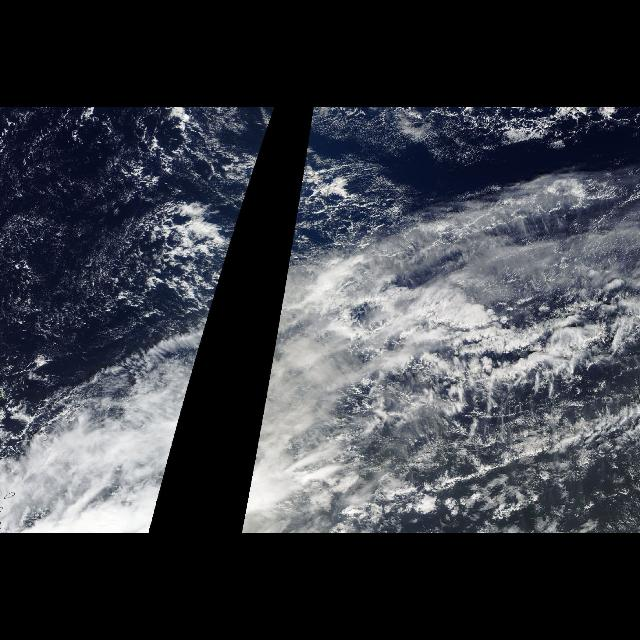Gravel: (19, 118, 273, 330), (280, 120, 426, 302)
Sugar: (2, 136, 266, 318), (280, 136, 428, 318)
